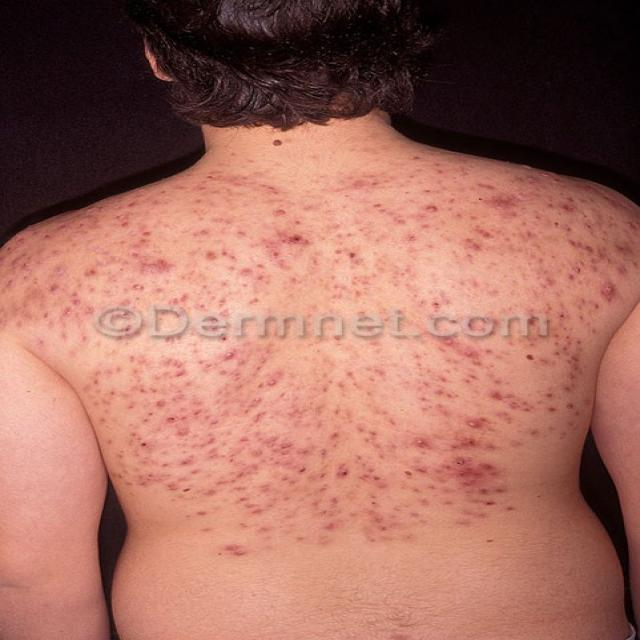acne: (411, 206, 629, 392), (219, 196, 413, 335), (384, 356, 546, 502), (222, 317, 424, 434), (131, 446, 344, 554), (5, 232, 174, 348), (99, 350, 248, 446)
